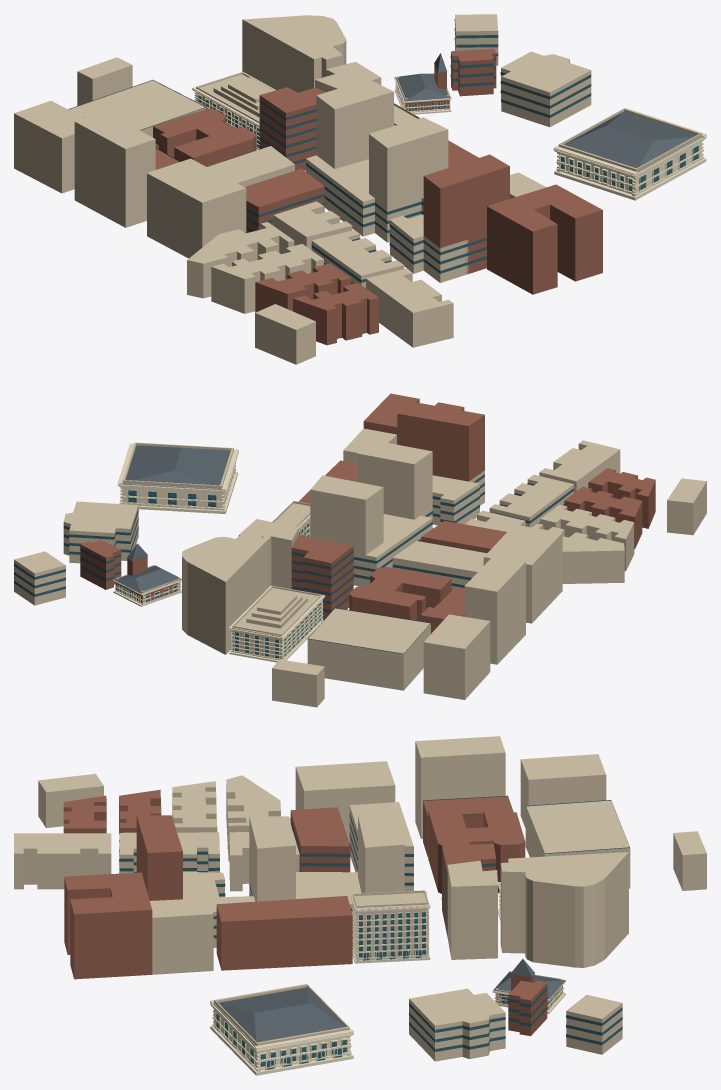
File: city_-3_2.glb
3 views of the same model, one above another, from view 1: azimuth 30°, elevation 25°; view 2: azimuth 150°, elevation 25°; view 3: azimuth 270°, elevation 25° (orthographic). The views are drawn at different scales.
Visible parts, largest first — view 1: city_-3_2; view 2: city_-3_2; view 3: city_-3_2.
Boxes of the visible parts, x1,y1,x2,y2 form: city_-3_2: (14,14,706,364); city_-3_2: (14,393,706,707); city_-3_2: (14,736,706,1075).
Bounding box in the file's own units: 239 × 40.8 × 263.
